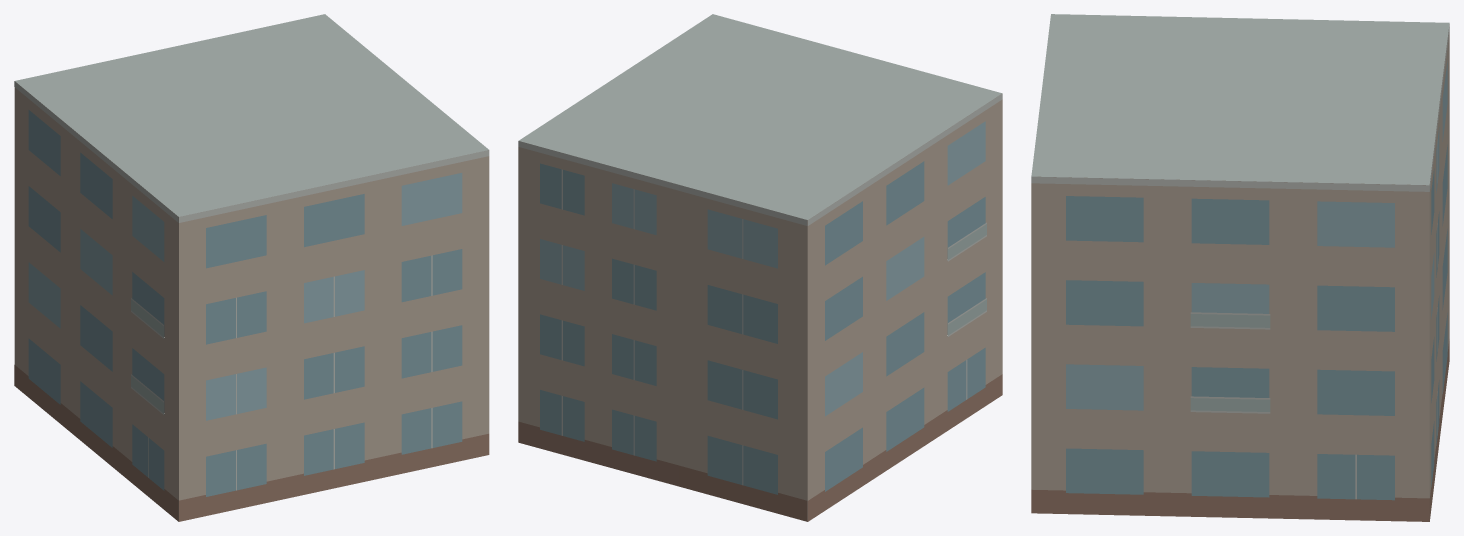
The model's file is residential-4a4ad73a-1f37-45a7-aea9-270d1dd13048.glb.
3 views of the same model, side by side, from view 1: azimuth 30°, elevation 25°; view 2: azimuth 150°, elevation 25°; view 3: azimuth 270°, elevation 25° (orthographic). The views are drawn at different scales.
Visible parts, largest first — view 1: residential-4a4ad73a-1f37-45a7-aea9-270d1dd13048.tmp; view 2: residential-4a4ad73a-1f37-45a7-aea9-270d1dd13048.tmp; view 3: residential-4a4ad73a-1f37-45a7-aea9-270d1dd13048.tmp.
Boxes of the visible parts, <box> form: residential-4a4ad73a-1f37-45a7-aea9-270d1dd13048.tmp: <box>14,14,489,521</box>; residential-4a4ad73a-1f37-45a7-aea9-270d1dd13048.tmp: <box>518,14,1002,521</box>; residential-4a4ad73a-1f37-45a7-aea9-270d1dd13048.tmp: <box>1031,14,1449,521</box>.
Bounding box in the file's own units: 13.31 × 12.2 × 13.75.
